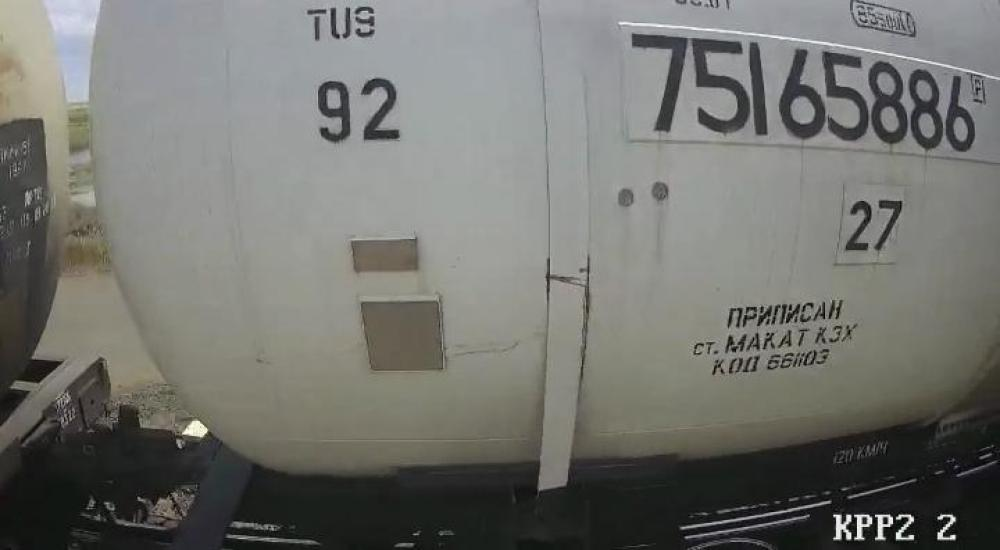Wagon-number: (629, 30, 979, 156)
